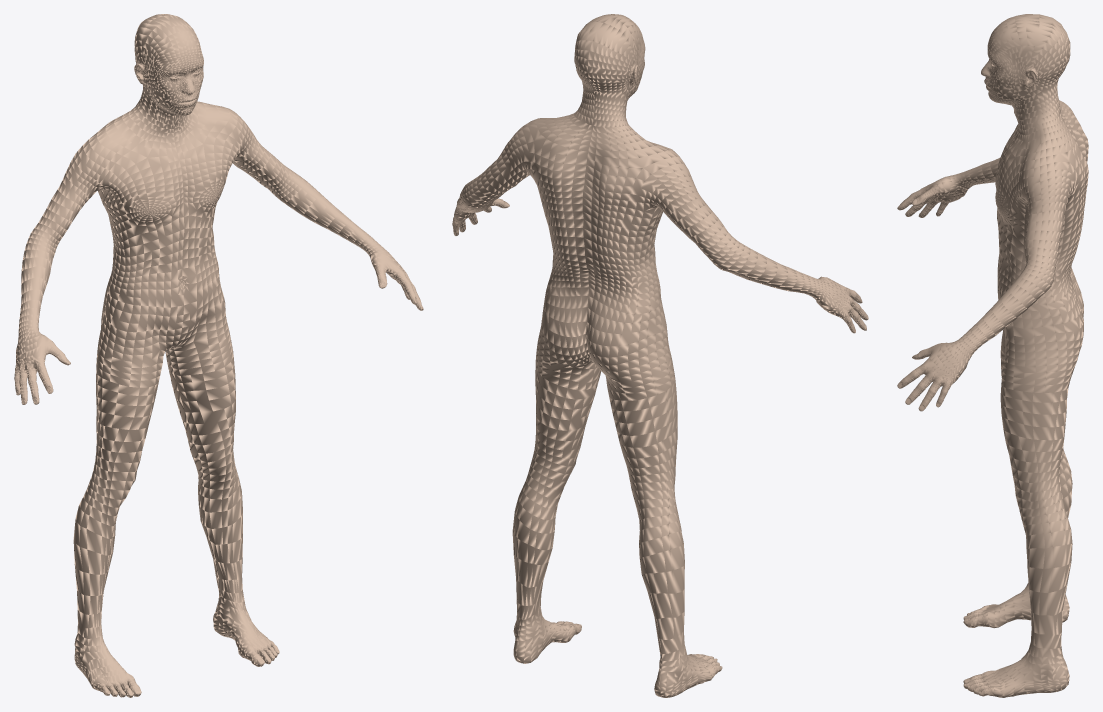
Rendered from male_low_high.glb.
3 renders of one model, left to right at view 1: azimuth 30°, elevation 25°; view 2: azimuth 150°, elevation 25°; view 3: azimuth 270°, elevation 25°, orthographic.
Parts seen in each view (by area): view 1: male_low_highMesh; view 2: male_low_highMesh; view 3: male_low_highMesh.
Part boxes in pixels (<box>): male_low_highMesh: <box>14,14,423,697</box>; male_low_highMesh: <box>452,14,868,697</box>; male_low_highMesh: <box>897,14,1088,697</box>.
Size of the model in its own units: 11.21 by 17.17 by 4.66.
